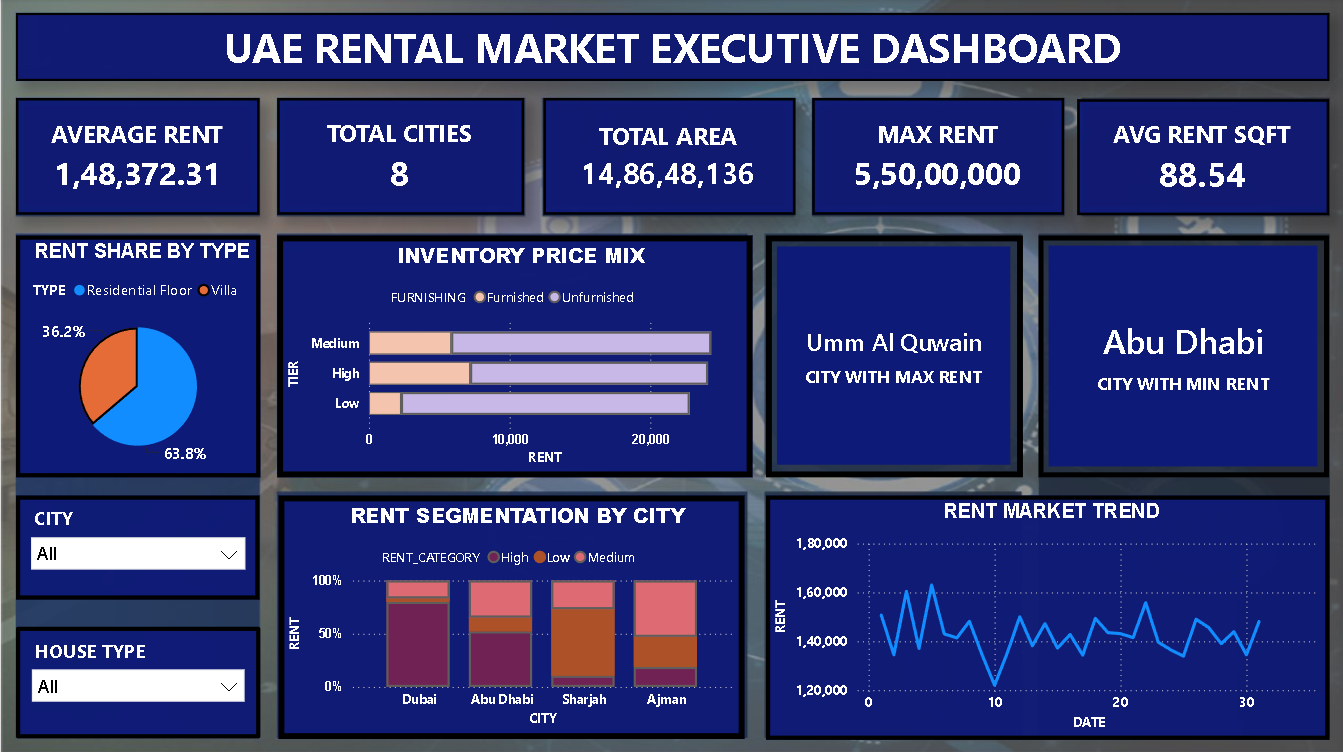

This screenshot's page, from the dashboard's own definition file:
{"tool":"powerbi","page":{"name":"Page 1","canvas":[1280,720],"ordinal":0},"visuals":[{"type":"image","box":[0,0,1280,720.3],"z":0},{"type":"shape","box":[14.4,14.4,1251.2,64.7],"z":1000},{"type":"cardVisual","fields":{"Data":["Avg(UAE RENTAL ANALYSIS.RENT)"]},"box":[14.4,95.2,232.3,111.1],"z":2000},{"type":"cardVisual","fields":{"Data":["Count(UAE RENTAL ANALYSIS.CITY)"]},"box":[263.7,94.7,234.9,111.5],"z":3000},{"type":"cardVisual","fields":{"Data":["Sum(UAE RENTAL ANALYSIS.AREA IN SQFT)"]},"box":[516.6,94.7,239.7,111.5],"z":4000},{"type":"cardVisual","fields":{"Data":["UAE RENTAL ANALYSIS.MAX RENT"]},"box":[773,94.7,239.7,111.5],"z":5000},{"type":"cardVisual","fields":{"Data":["Avg(UAE RENTAL ANALYSIS.RENT PER SQFT)"]},"box":[1025.9,95.9,239.7,110.3],"z":6000},{"type":"slicer","fields":{"Values":["UAE RENTAL ANALYSIS.CITY"]},"box":[14.3,474,232.2,98.8],"z":7000},{"type":"slicer","fields":{"Values":["UAE RENTAL ANALYSIS.HOUSE TYPE"]},"box":[14.3,599,232.5,97.1],"z":8000},{"type":"hundredPercentStackedColumnChart","title":"RENT SEGMENTATION BY CITY","fields":{"Category":["UAE RENTAL ANALYSIS.CITY"],"Series":["UAE RENTAL ANALYSIS.RENT_CATEGORY"],"Y":["Sum(UAE RENTAL ANALYSIS.RENT)"]},"box":[264.6,473.7,444.3,231.8],"z":9000},{"type":"pieChart","title":"RENT  SHARE BY TYPE","fields":{"Y":["Avg(UAE RENTAL ANALYSIS.AREA IN SQFT)"],"Category":["UAE RENTAL ANALYSIS.HOUSE TYPE"]},"box":[14.4,226.5,232.5,230.1],"z":10000},{"type":"barChart","title":"INVENTORY PRICE MIX","fields":{"Category":["UAE RENTAL ANALYSIS.RENT_CATEGORY"],"Y":["CountNonNull(UAE RENTAL ANALYSIS.ADDRESS)"],"Series":["UAE RENTAL ANALYSIS.FURNISHING"]},"box":[263.7,226.5,453,230.1],"z":11000},{"type":"lineChart","title":"RENT MARKET TREND","fields":{"Y":["Avg(UAE RENTAL ANALYSIS.RENT)"],"Category":["UAE RENTAL ANALYSIS.DATE.Variation.Date Hierarchy.Day"]},"box":[728.7,473.4,536.9,232.5],"z":12000},{"type":"cardVisual","fields":{"Data":["UAE RENTAL ANALYSIS.MIN RENT (CITY)"]},"box":[988.8,226.5,276.9,230.1],"z":13000},{"type":"cardVisual","fields":{"Data":["UAE RENTAL ANALYSIS.CITY WITH MAX RENT"]},"box":[728.7,226.5,244.5,230.1],"z":14000}]}

Visuals, with their boxes in screenshot pixels (x1, y1, x2, y2), scaled from the page's 1280x720 canvas onto the 1343x752 screenshot:
image: 0, 0, 1342, 751
shape: 15, 15, 1328, 83
cardVisual - Avg(UAE RENTAL ANALYSIS.RENT): 15, 99, 259, 215
cardVisual - Count(UAE RENTAL ANALYSIS.CITY): 277, 99, 523, 215
cardVisual - Sum(UAE RENTAL ANALYSIS.AREA IN SQFT): 542, 99, 794, 215
cardVisual - UAE RENTAL ANALYSIS.MAX RENT: 811, 99, 1063, 215
cardVisual - Avg(UAE RENTAL ANALYSIS.RENT PER SQFT): 1076, 100, 1328, 215
slicer - UAE RENTAL ANALYSIS.CITY: 15, 495, 259, 598
slicer - UAE RENTAL ANALYSIS.HOUSE TYPE: 15, 626, 259, 727
"RENT SEGMENTATION BY CITY" hundredPercentStackedColumnChart: 278, 495, 744, 737
"RENT  SHARE BY TYPE" pieChart: 15, 237, 259, 477
"INVENTORY PRICE MIX" barChart: 277, 237, 752, 477
"RENT MARKET TREND" lineChart: 765, 494, 1328, 737
cardVisual - UAE RENTAL ANALYSIS.MIN RENT (CITY): 1037, 237, 1328, 477
cardVisual - UAE RENTAL ANALYSIS.CITY WITH MAX RENT: 765, 237, 1021, 477
